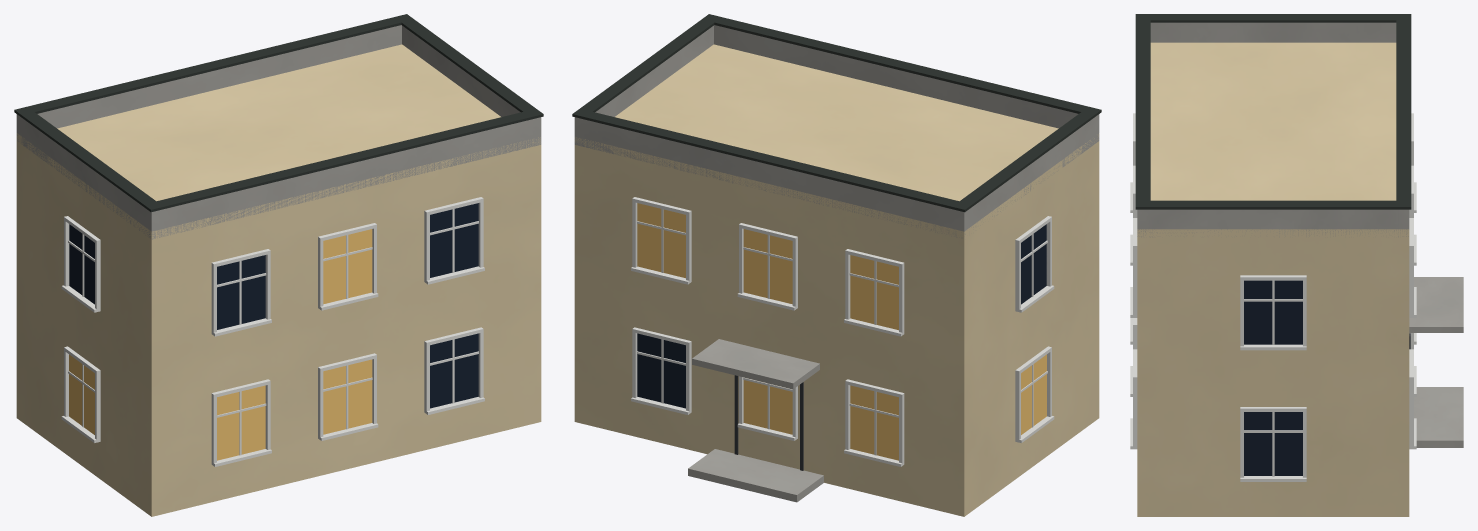
Rendered from pv_kancelare.glb.
3 renders of one model, left to right at view 1: azimuth 30°, elevation 25°; view 2: azimuth 150°, elevation 25°; view 3: azimuth 270°, elevation 25°, orthographic.
Parts seen in each view (by area): view 1: dum, noc; view 2: dum, noc; view 3: dum.
Boxes of the visible parts, box(x1,y1,x2,y2) form: dum: box(14, 14, 543, 516); noc: box(69, 229, 372, 460); dum: box(572, 14, 1101, 516); noc: box(637, 203, 1046, 460); dum: box(1130, 14, 1463, 516).
Bounding box in the file's own units: 10.29 × 7.54 × 7.34.
Materials: 1 (1 with a texture image).
